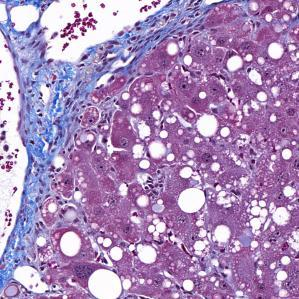fibrosis: (19, 55, 104, 140), (120, 10, 190, 61), (15, 187, 53, 268)
